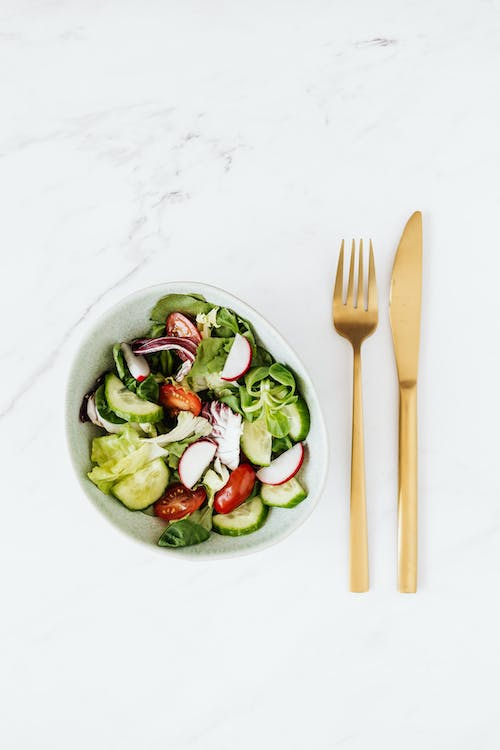knife: (384, 207, 427, 594)
